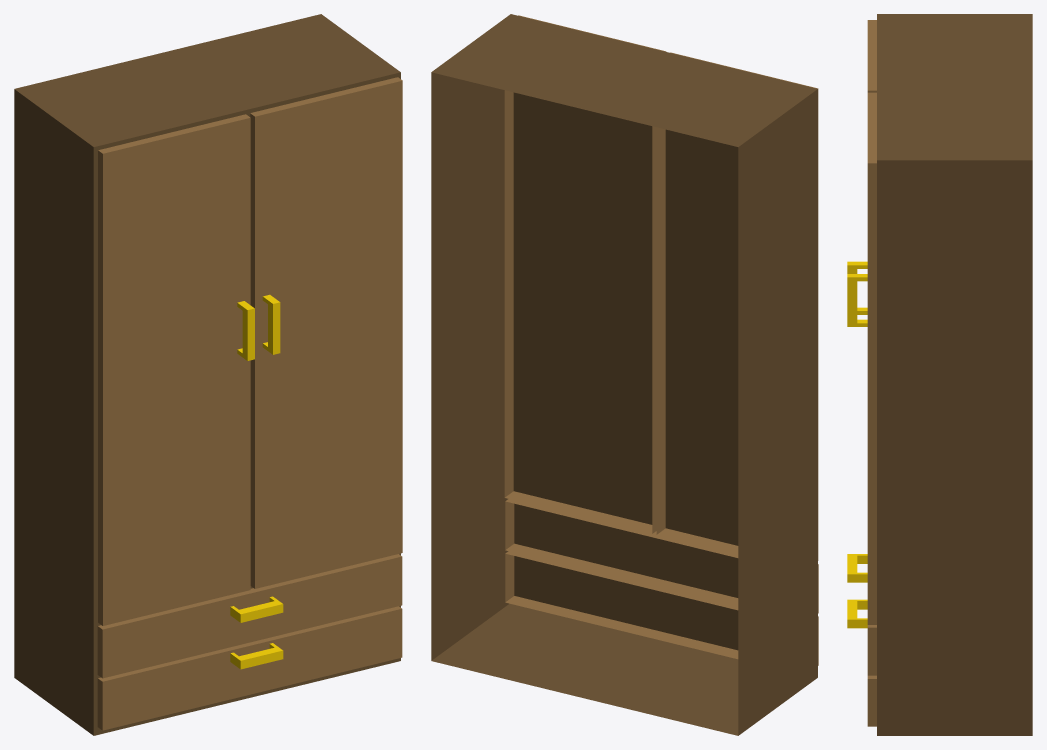
The model's file is adult room wardrobe.fbx.
3 renders of one model, left to right at view 1: azimuth 30°, elevation 25°; view 2: azimuth 150°, elevation 25°; view 3: azimuth 270°, elevation 25°, orthographic. The views are drawn at different scales.
Visible parts, largest first — view 1: adult room wardrobe; view 2: adult room wardrobe; view 3: adult room wardrobe.
Boxes of the visible parts, left/top/right/bottom form: adult room wardrobe: left=14, top=14, right=402, bottom=735; adult room wardrobe: left=431, top=14, right=818, bottom=735; adult room wardrobe: left=847, top=14, right=1032, bottom=735.
Size of the model in its own units: 56.13 by 103 by 30.
